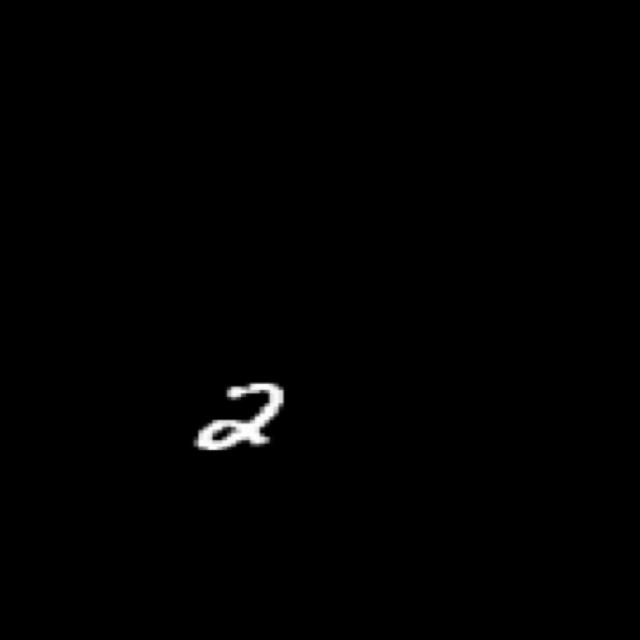two -2-: (183, 380, 299, 461)
